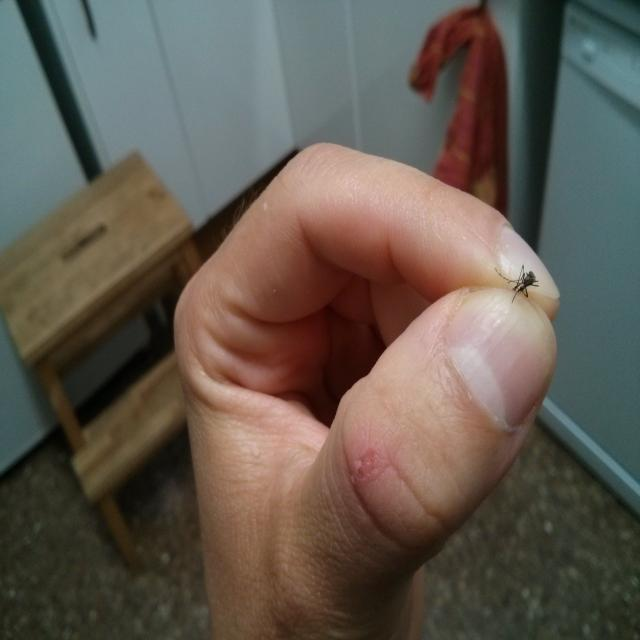albopictus: (489, 255, 545, 311)
